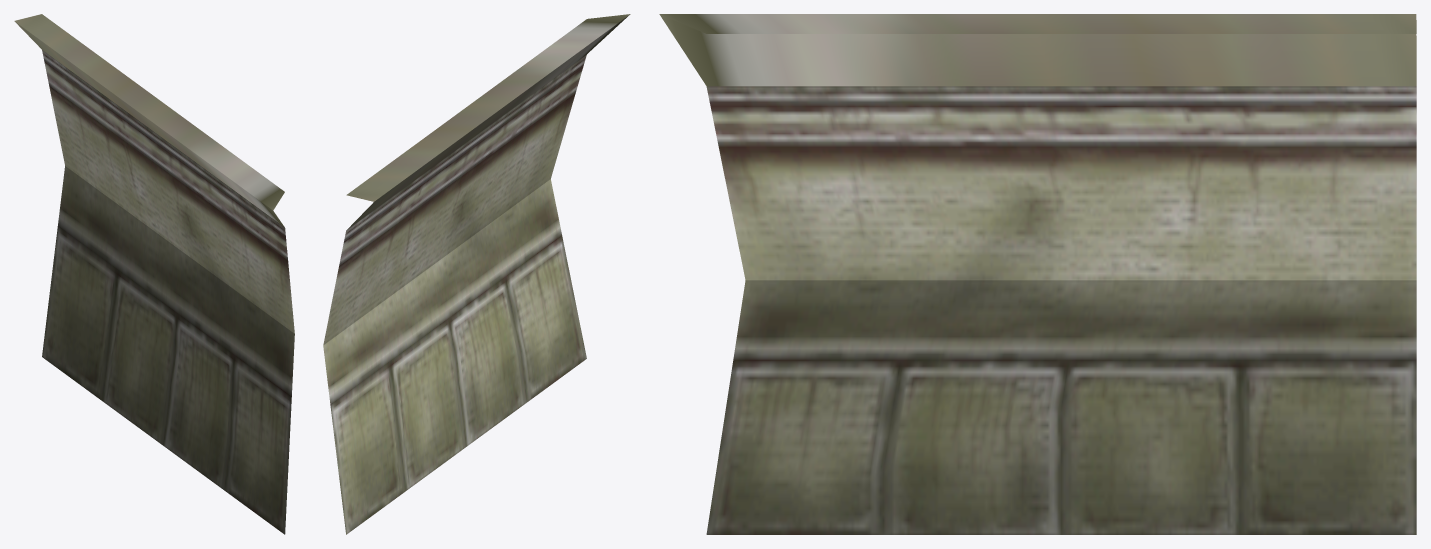
Rendered from W_A2l_xx [GrünesMarmor]_2196.glb.
3 renders of one model, left to right at view 1: azimuth 30°, elevation 25°; view 2: azimuth 150°, elevation 25°; view 3: azimuth 270°, elevation 25°, orthographic. The views are drawn at different scales.
Visible parts, largest first — view 1: pPlaneShape1, polySurfaceShape1065; view 2: pPlaneShape1, polySurfaceShape1065; view 3: pPlaneShape1, polySurfaceShape1065.
Part boxes in pixels (x1=…): pPlaneShape1: x1=42, y1=50, x2=294, y2=534; polySurfaceShape1065: x1=14, y1=14, x2=284, y2=227; pPlaneShape1: x1=323, y1=54, x2=586, y2=534; polySurfaceShape1065: x1=346, y1=14, x2=630, y2=229; pPlaneShape1: x1=706, y1=86, x2=1416, y2=534; polySurfaceShape1065: x1=659, y1=14, x2=1416, y2=86.
Bounding box in the file's own units: 0.0607 × 0.3891 × 0.5333.
2 materials, 2 textured.
